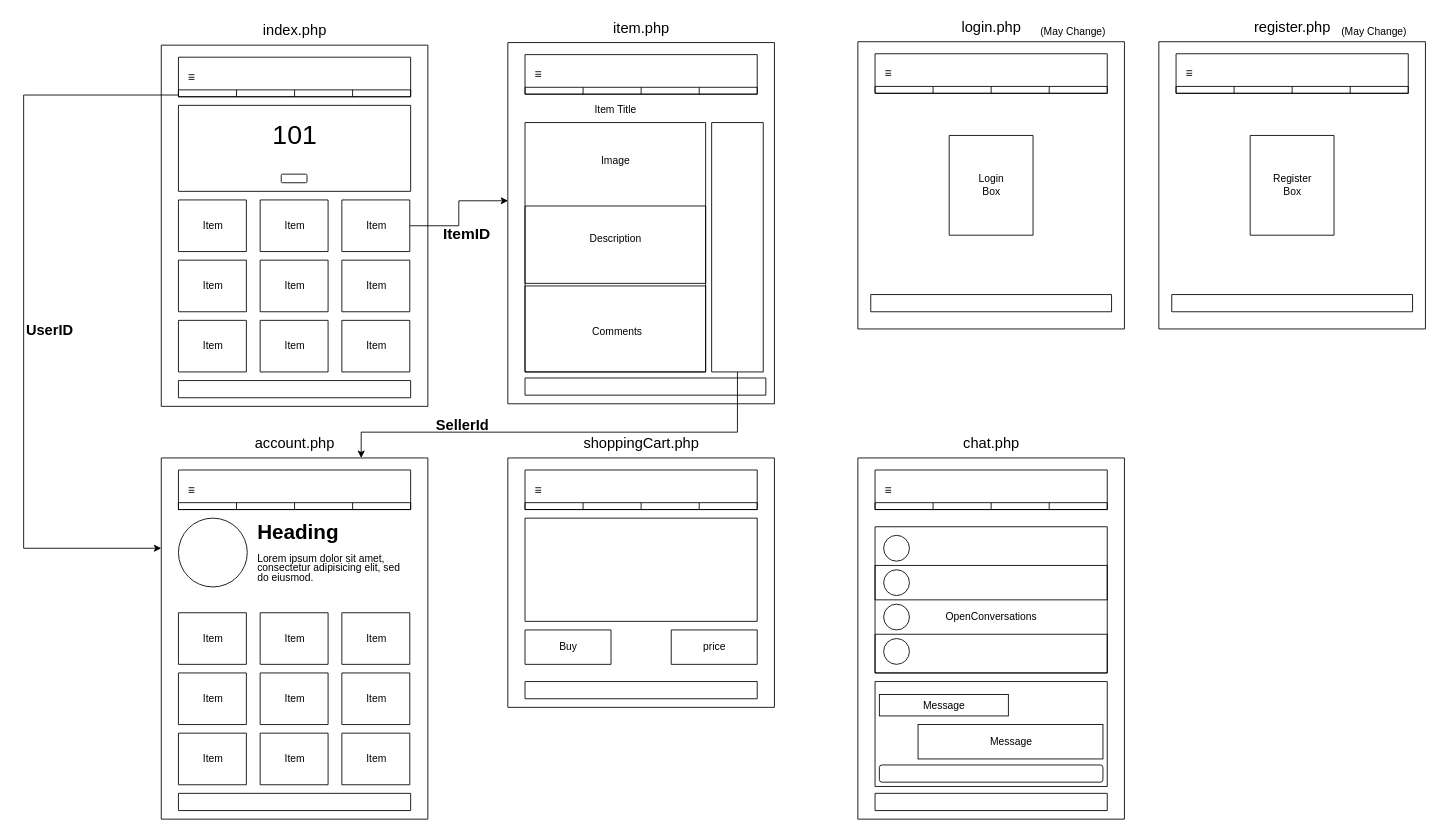
Image size: 1441x834. Some labels were removed from this diagram. The shapes that lost their labels are listed below. From the top down, each one's centre as x and y in pixels, then its label:
[737,247]: Seller stats
[640,569]: Cart
[990,773]: TextBar
